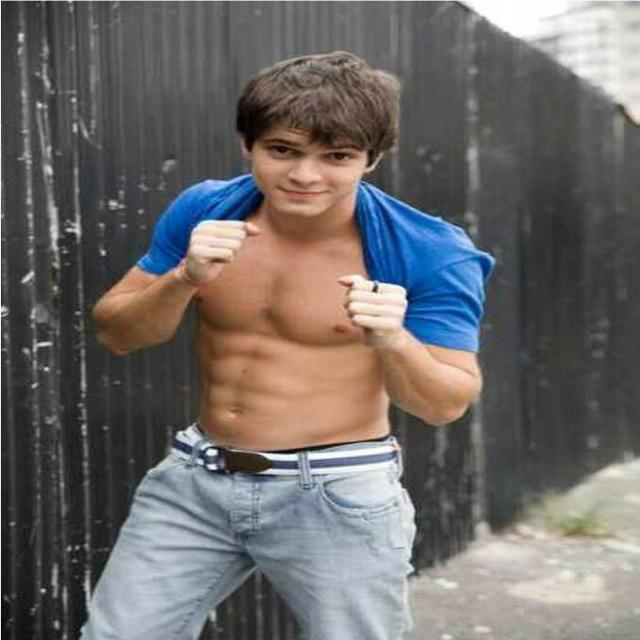earlobe: (364, 163, 374, 174), (244, 150, 253, 161)
eye: (270, 146, 295, 155), (326, 152, 351, 161)
nose: (287, 178, 320, 195)
